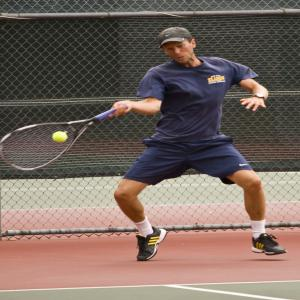TennisBall: (54, 133, 69, 143)
